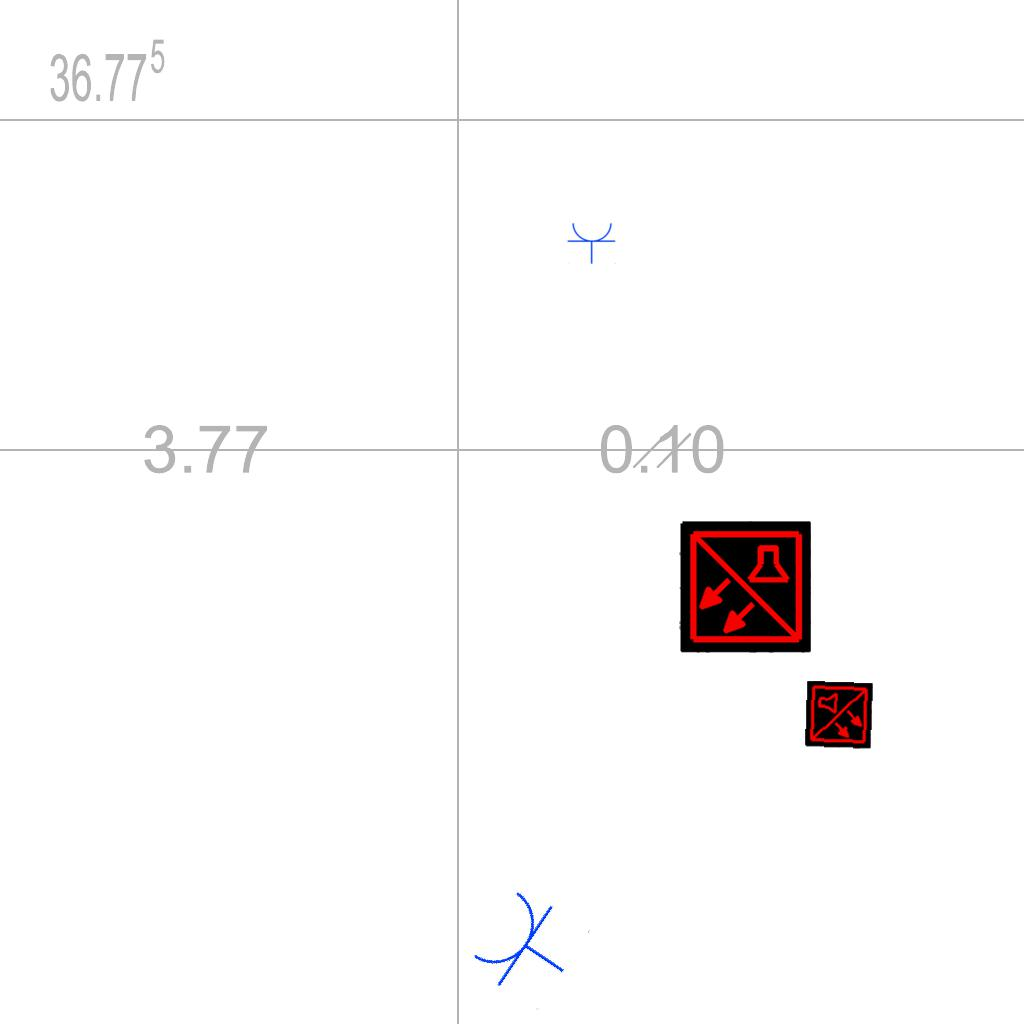OKW_Multisensormelder_(Kombination_optischer_Rauch-Kahlenmonoxid_Waerme-Melder): (679, 521, 811, 653), (804, 680, 874, 750)
Schukosteckdose_einfach: (463, 880, 593, 1013), (567, 221, 617, 264)
